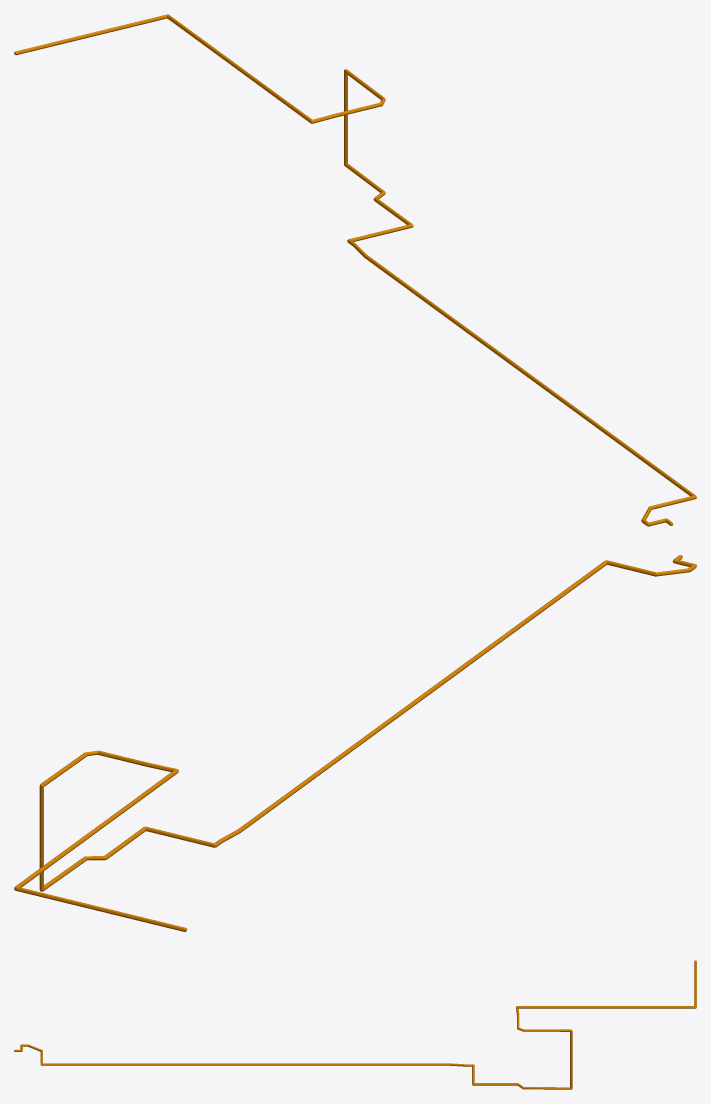
3 views of the same model, one above another, from view 1: azimuth 30°, elevation 25°; view 2: azimuth 150°, elevation 25°; view 3: azimuth 270°, elevation 25° (orthographic). The views are drawn at different scales.
Size of the model in its own units: 1304 by 520 by 5359.
